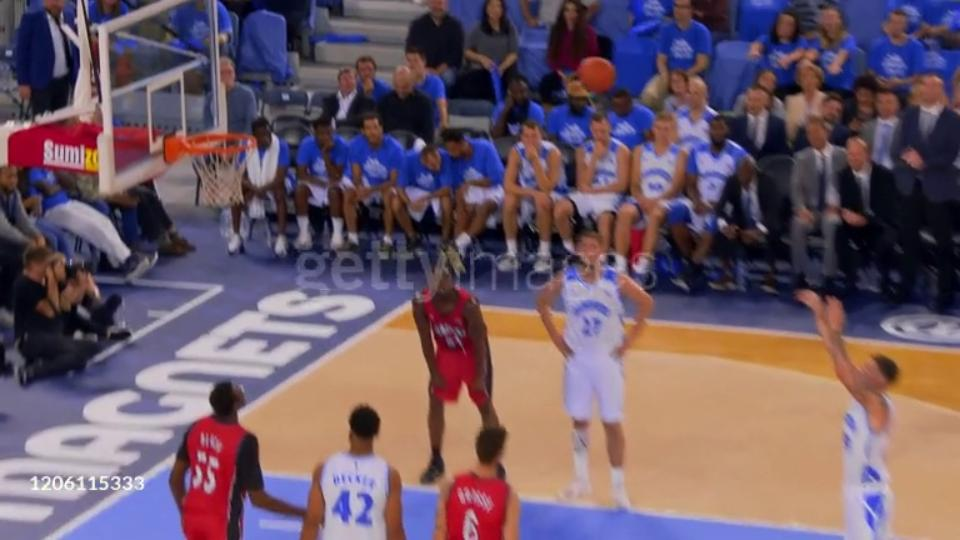hoop: (159, 129, 254, 160)
